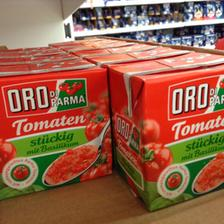Tomatensauce: (109, 51, 224, 209), (0, 59, 112, 202)
